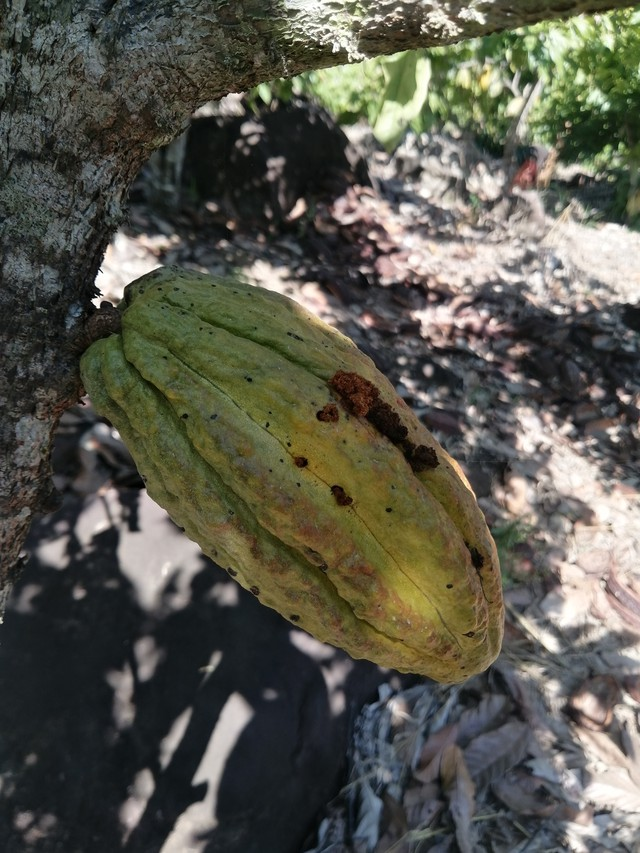carmenta foraseminis: (77, 259, 509, 690)
